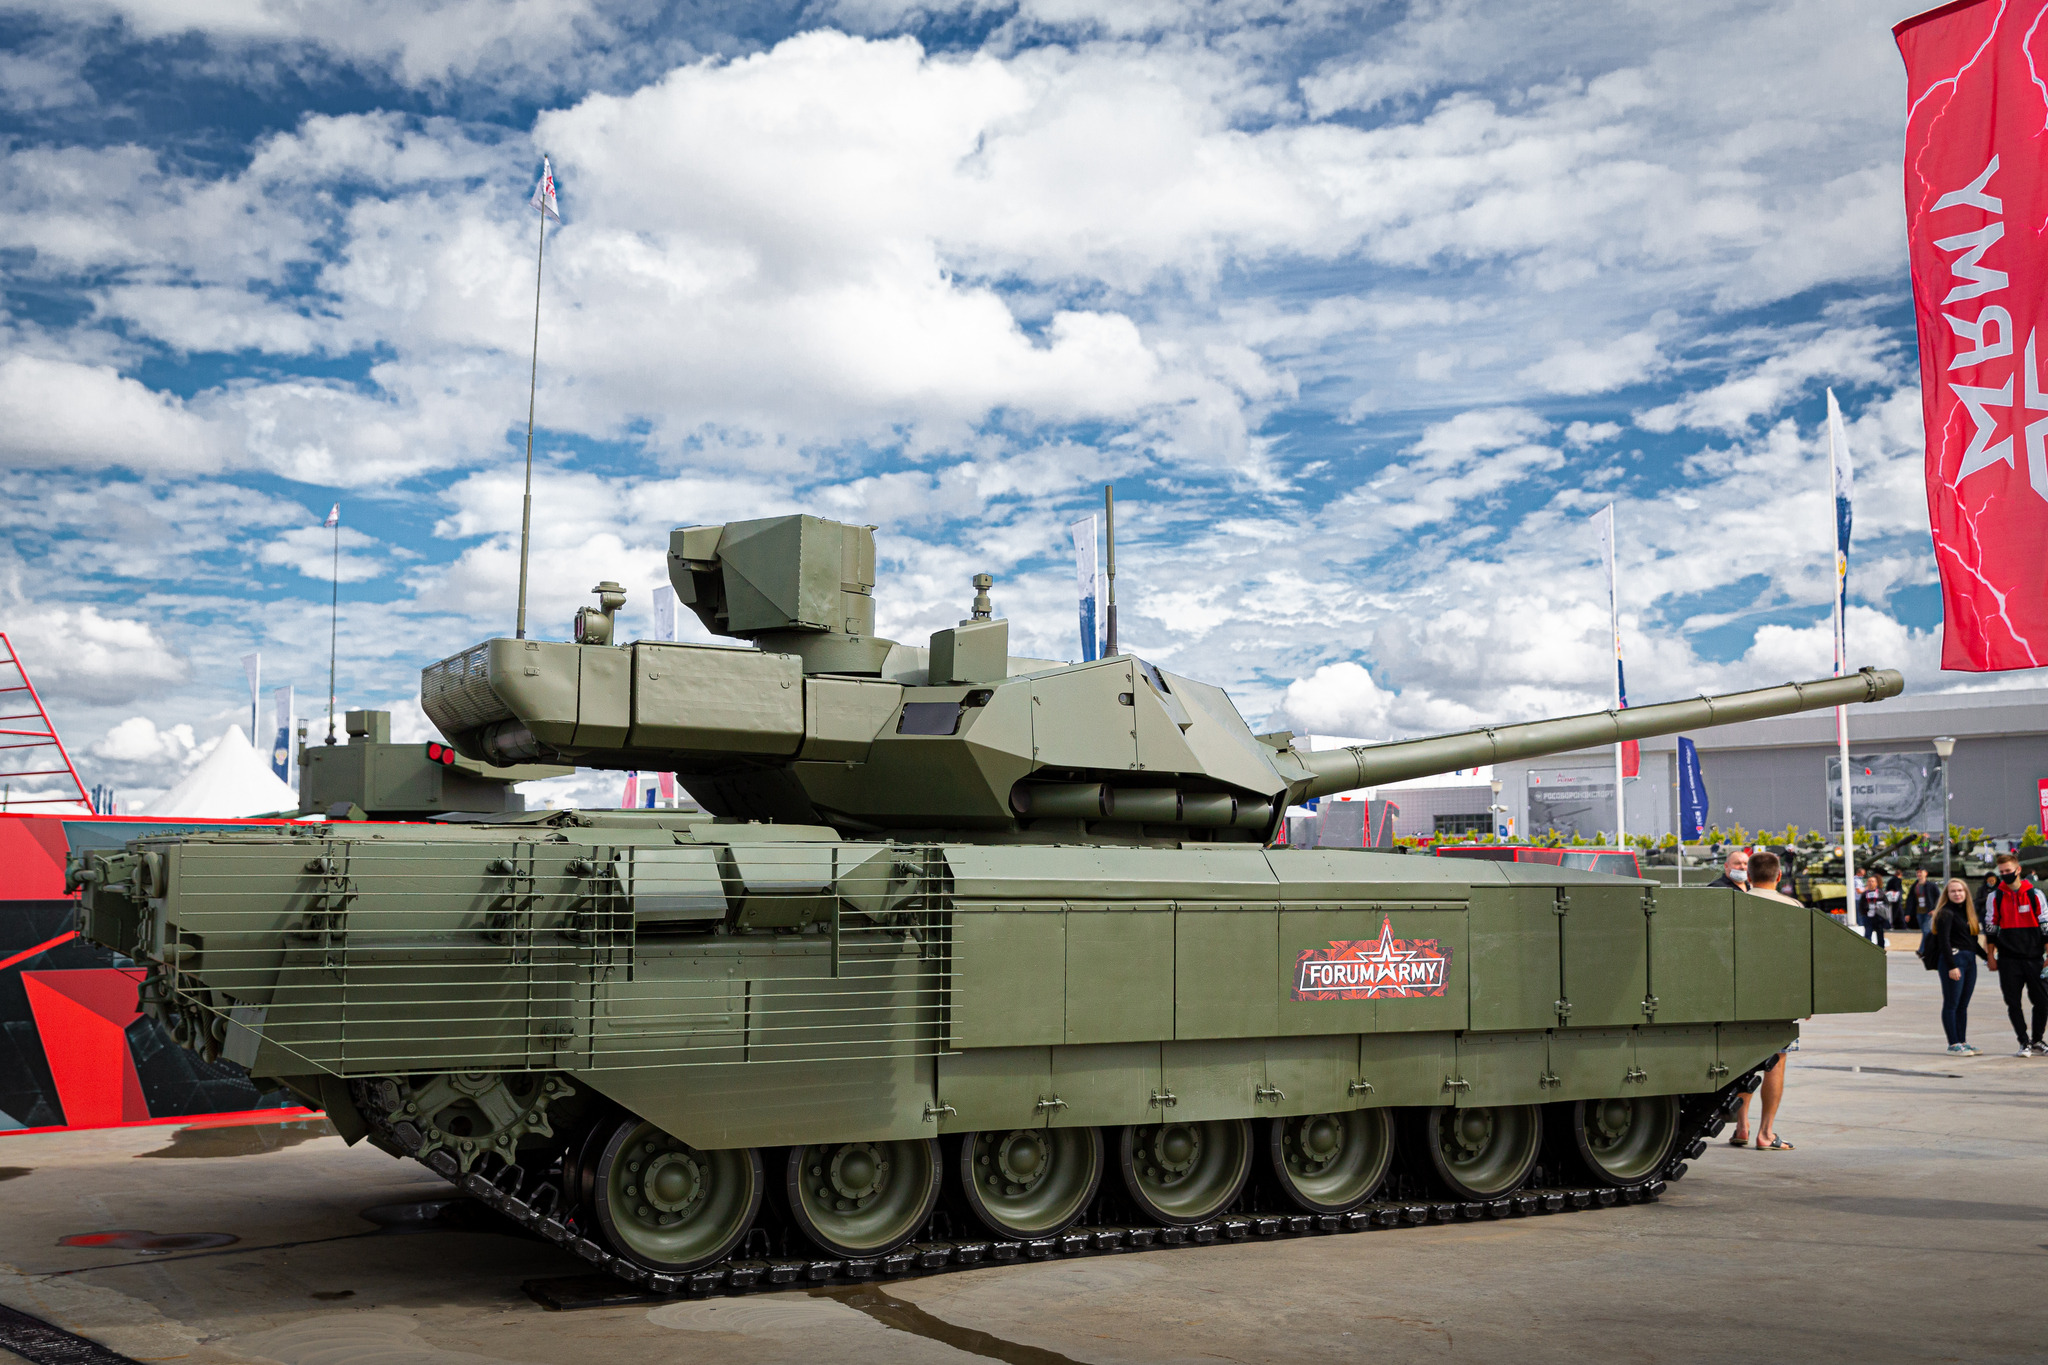human: (1980, 858, 2048, 1062), (1921, 879, 1996, 1058)
tank: (66, 496, 1914, 1307)
